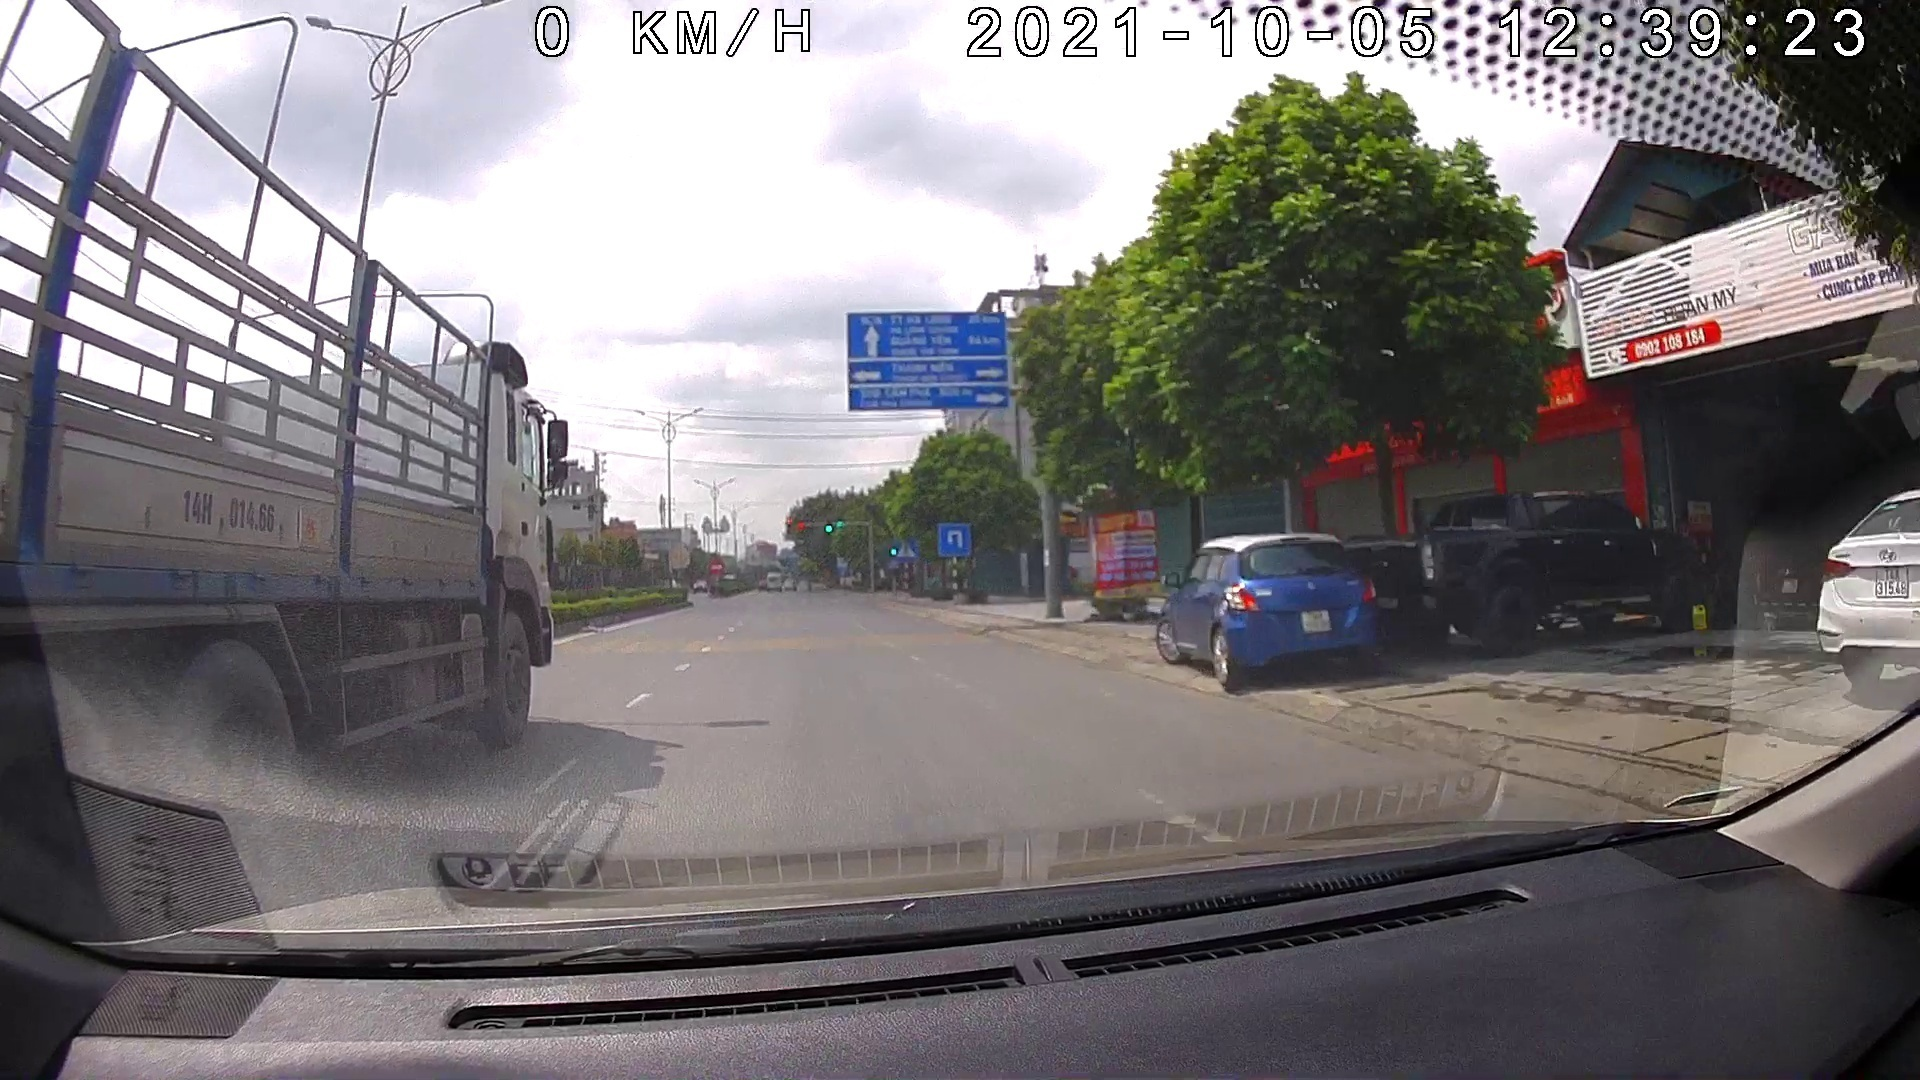Bien khac: (934, 521, 971, 562)
Cam di nguoc chieu: (703, 556, 724, 576)
Nguoi di bo: (891, 530, 919, 560)
